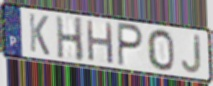H: (55, 15, 86, 64), (85, 18, 115, 66)
J: (180, 33, 202, 75)
K: (28, 12, 51, 58)
O: (146, 28, 176, 72)
P: (116, 21, 144, 69)
